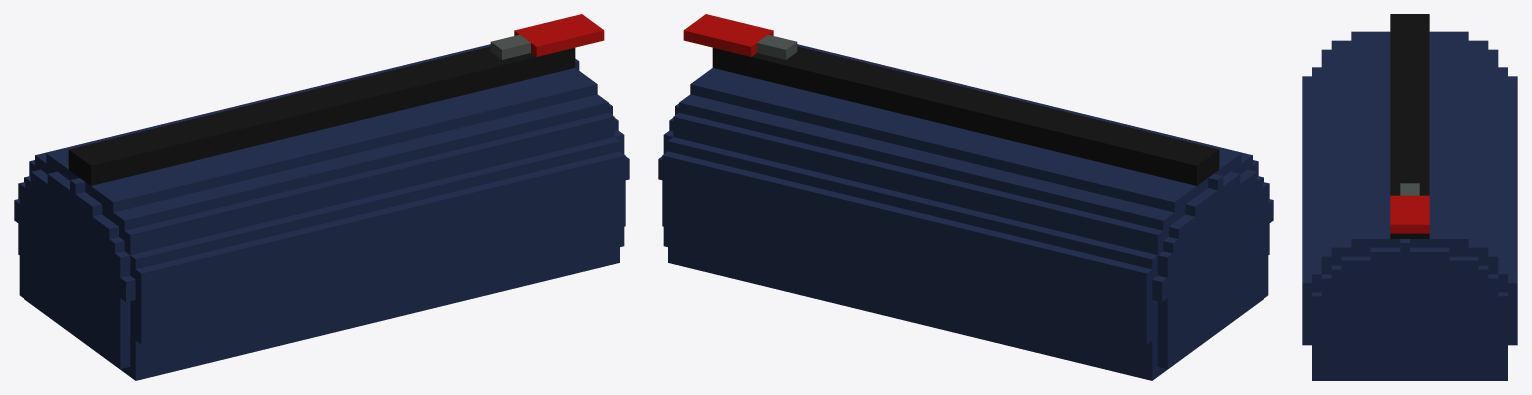
The model's file is pencil_case.glb.
The picture shows the model from 3 angles, left to right: view 1: azimuth 30°, elevation 25°; view 2: azimuth 150°, elevation 25°; view 3: azimuth 270°, elevation 25°; orthographic projection. The views are drawn at different scales.
Visible parts, largest first — view 1: pencil_case:compound; view 2: pencil_case:compound; view 3: pencil_case:compound.
Part boxes in pixels (x1=…): pencil_case:compound: x1=14, y1=14, x2=629, y2=380; pencil_case:compound: x1=658, y1=14, x2=1273, y2=380; pencil_case:compound: x1=1302, y1=14, x2=1517, y2=380.
Size of the model in its own units: 0.216 by 0.076 by 0.088.
